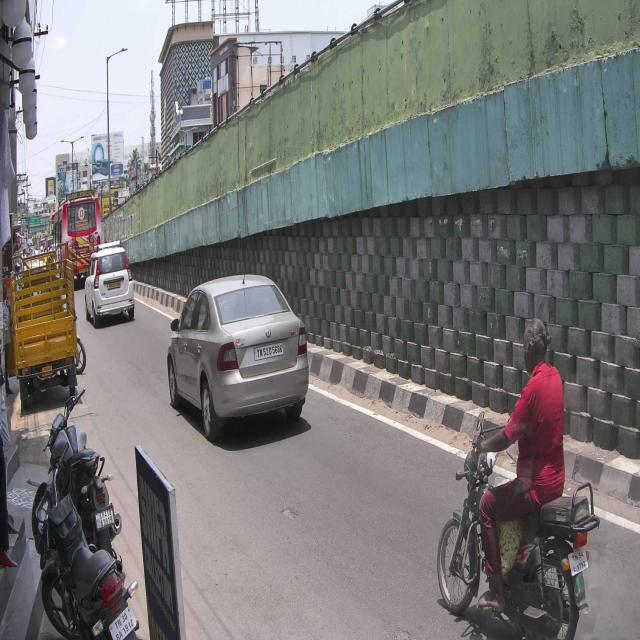single_rider: (437, 318, 600, 640)
